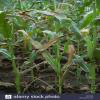Corn leaf blight: (18, 33, 76, 73), (20, 9, 86, 42), (17, 29, 58, 75), (60, 44, 75, 85), (6, 15, 42, 28), (0, 9, 13, 42)
